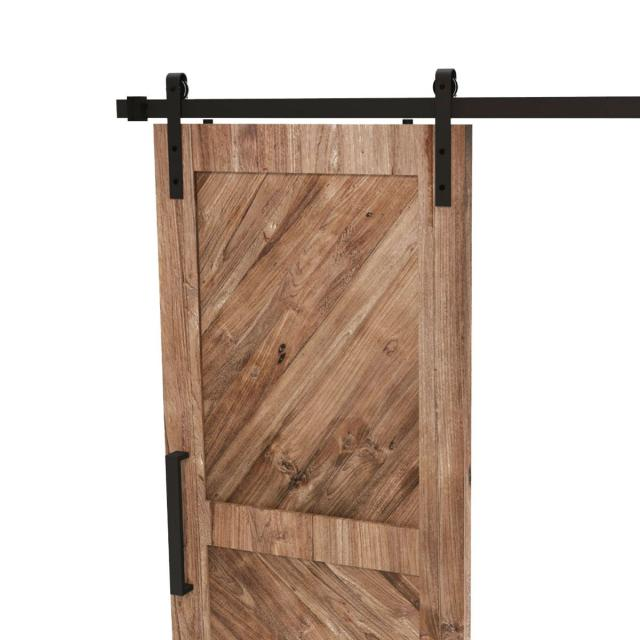door: (153, 119, 473, 639)
